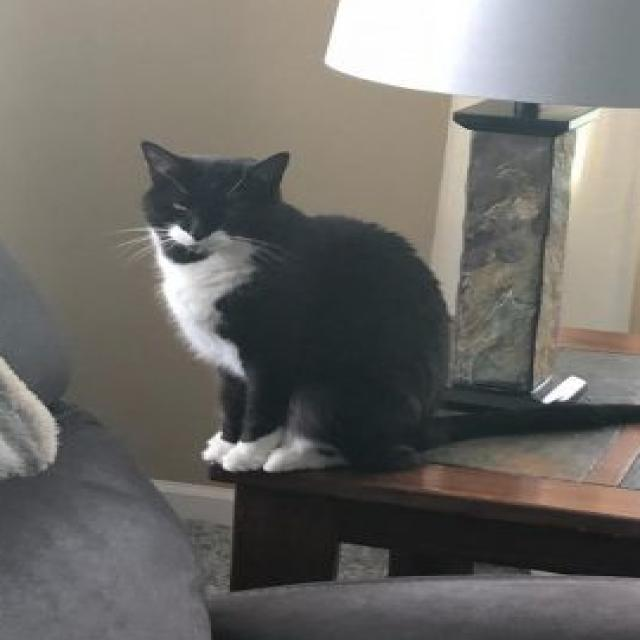Tuxedo: (125, 133, 640, 474)
